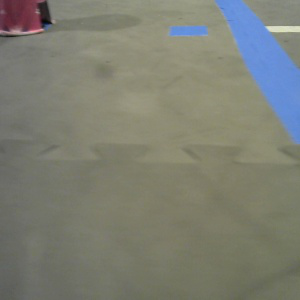middle: (1, 1, 55, 36)
